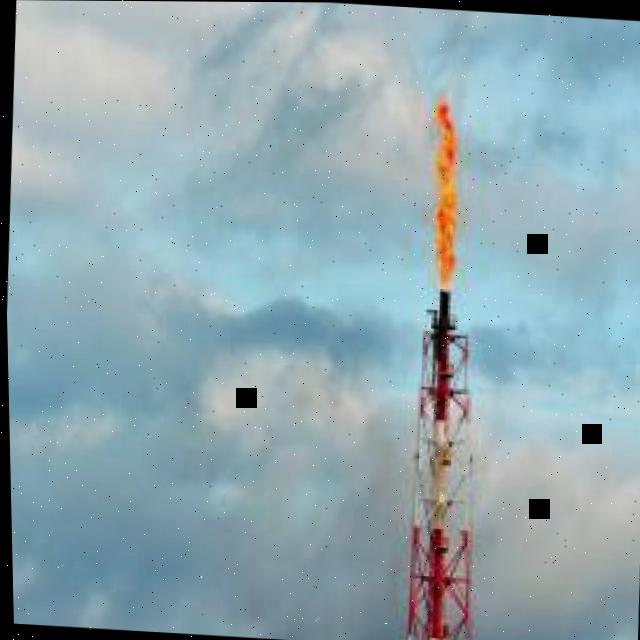fire: (434, 93, 457, 289)
